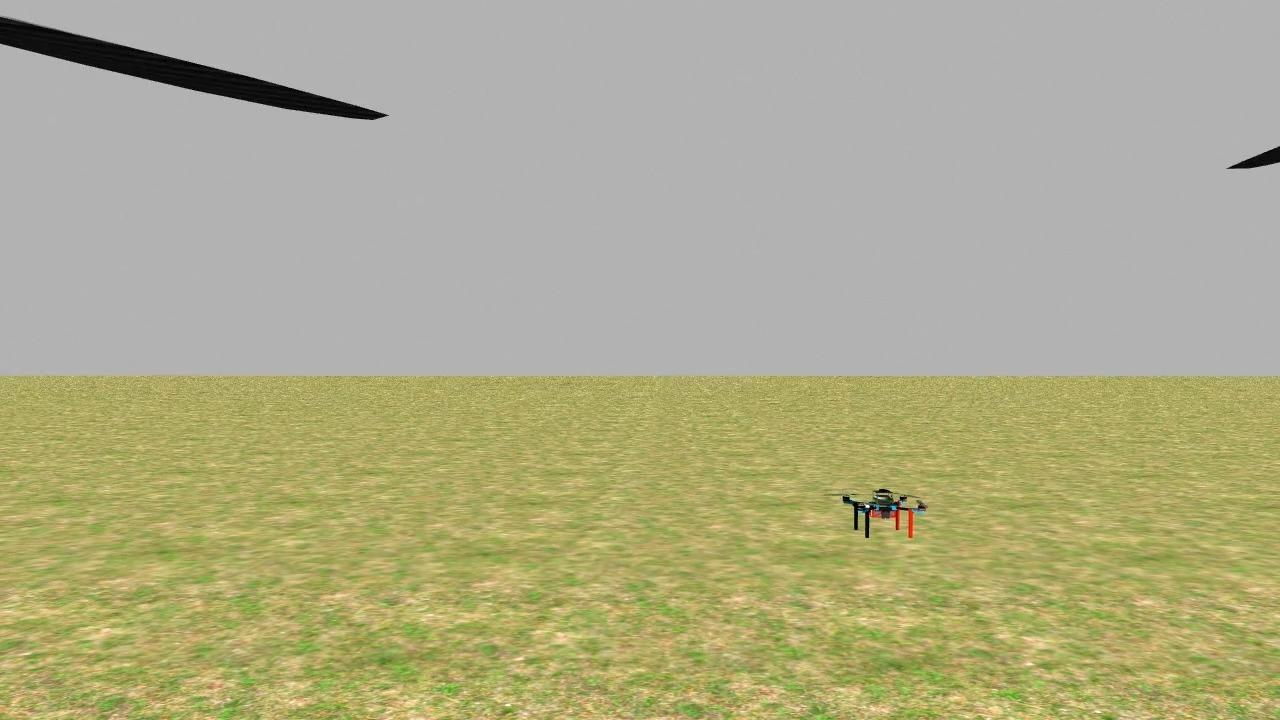UAV: (846, 472, 946, 547)
